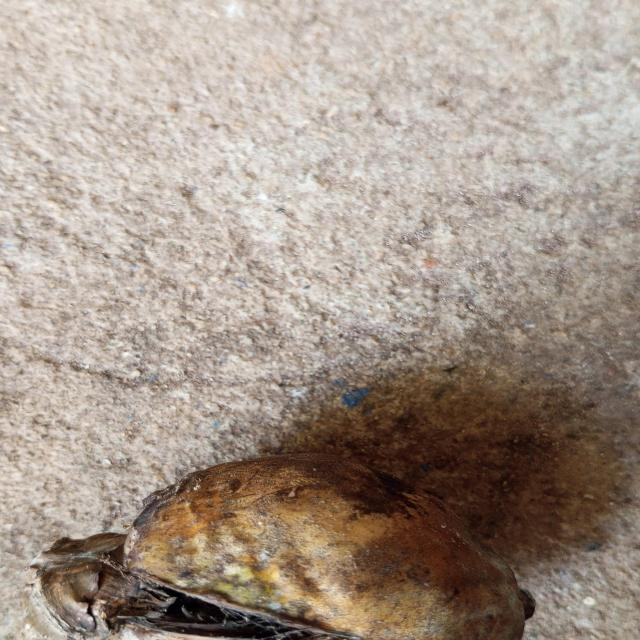damaged: (33, 454, 534, 640)
